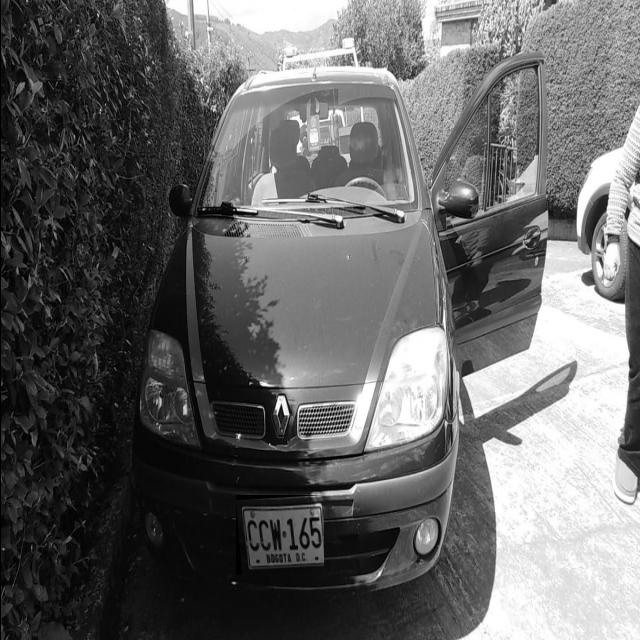plate: (235, 495, 323, 575)
